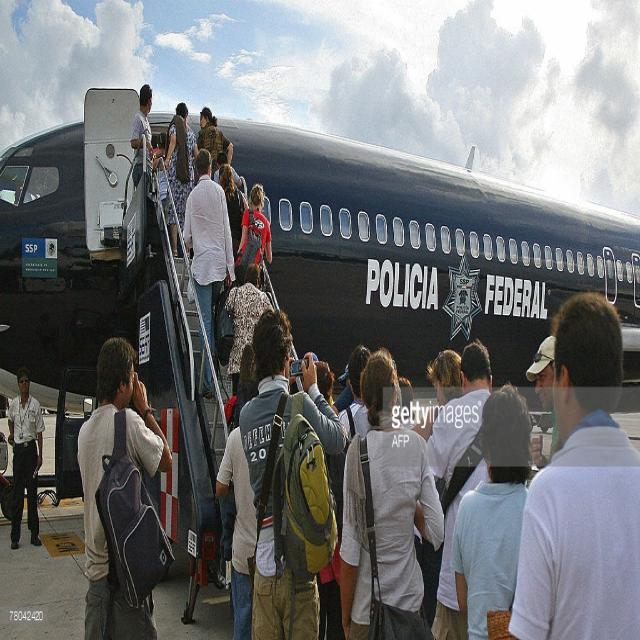body: (507, 291, 639, 639), (237, 302, 349, 639), (335, 341, 447, 639), (75, 334, 174, 639), (450, 382, 534, 640), (289, 327, 349, 640), (181, 146, 237, 400), (214, 373, 260, 639), (216, 262, 276, 398), (7, 367, 45, 550), (163, 101, 202, 261), (524, 322, 557, 473), (422, 348, 462, 446), (424, 348, 462, 443), (336, 344, 372, 444), (233, 181, 274, 268), (228, 344, 260, 438), (217, 162, 247, 260), (196, 106, 234, 182), (130, 84, 154, 194), (6, 172, 54, 206), (152, 126, 167, 214), (396, 371, 418, 425), (213, 152, 242, 188)
